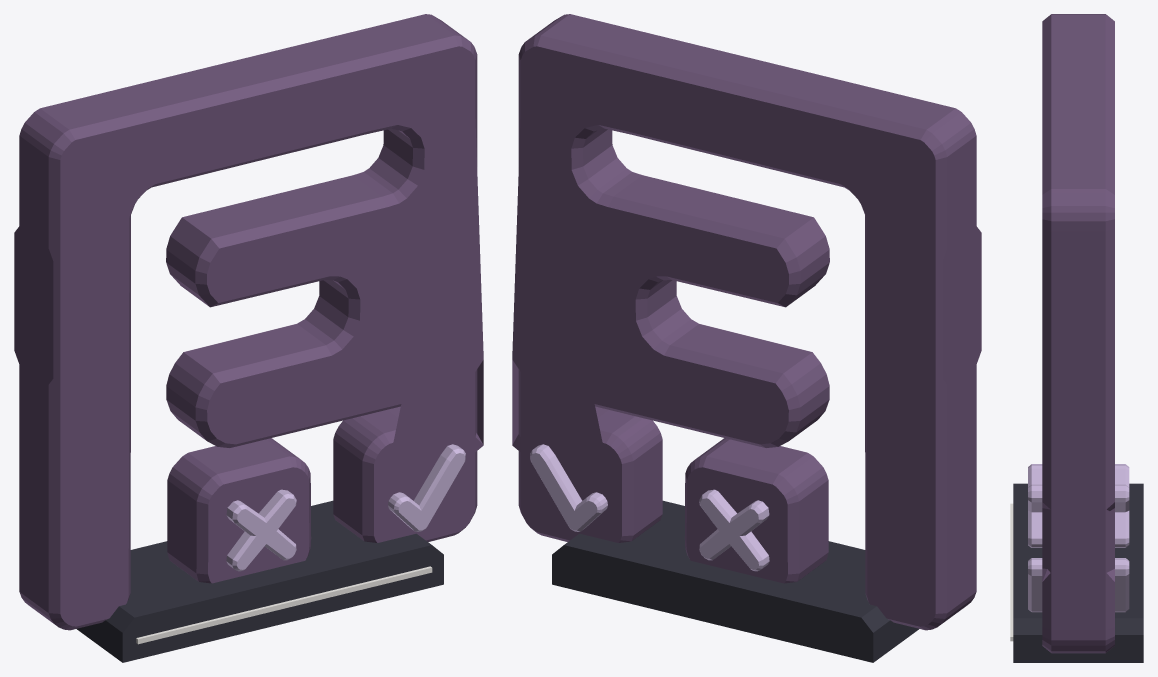
The model's file is 001-preface.glb.
3 renders of one model, left to right at view 1: azimuth 30°, elevation 25°; view 2: azimuth 150°, elevation 25°; view 3: azimuth 270°, elevation 25°, orthographic. The views are drawn at different scales.
Visible parts, largest first — view 1: 001-block, foot-block, 001-marks, foot-keyline; view 2: 001-block, foot-block, 001-marks-back; view 3: 001-block, foot-block, 001-marks, 001-marks-back, foot-keyline.
Boxes of the visible parts, left/top/right/bottom form: 001-block: left=14, top=14, right=483, bottom=630; foot-block: left=77, top=500, right=443, bottom=662; 001-marks: left=226, top=444, right=465, bottom=571; foot-keyline: left=136, top=566, right=432, bottom=644; 001-block: left=512, top=14, right=981, bottom=630; foot-block: left=552, top=500, right=918, bottom=662; 001-marks-back: left=530, top=444, right=769, bottom=571; 001-block: left=1042, top=14, right=1114, bottom=653; foot-block: left=1013, top=483, right=1143, bottom=662; 001-marks: left=1028, top=464, right=1042, bottom=612; 001-marks-back: left=1115, top=464, right=1129, bottom=612; foot-keyline: left=1010, top=503, right=1013, bottom=641.
Bounding box in the file's own units: 1.27 × 1.49 × 0.369.
